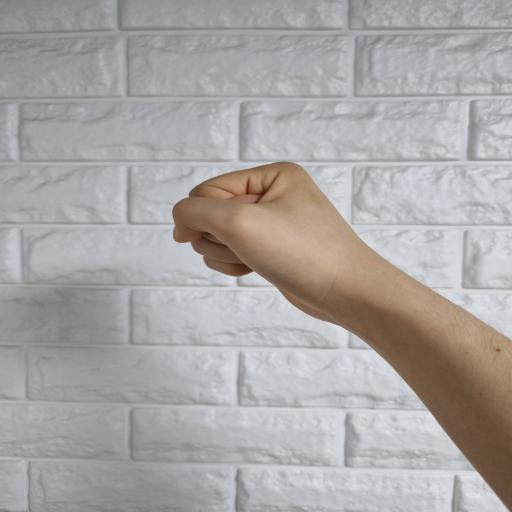Rock: (172, 161, 380, 333)
